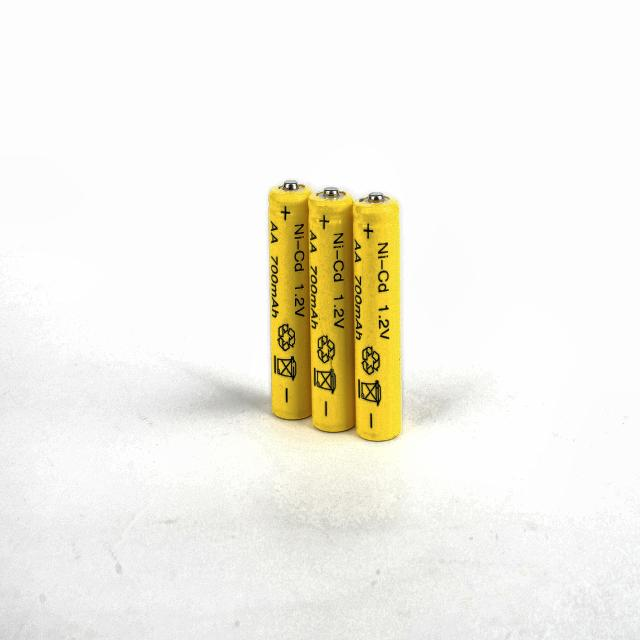Non-Valuable Waste - Batteries: (353, 194, 401, 440), (309, 190, 354, 432), (269, 182, 312, 420)
